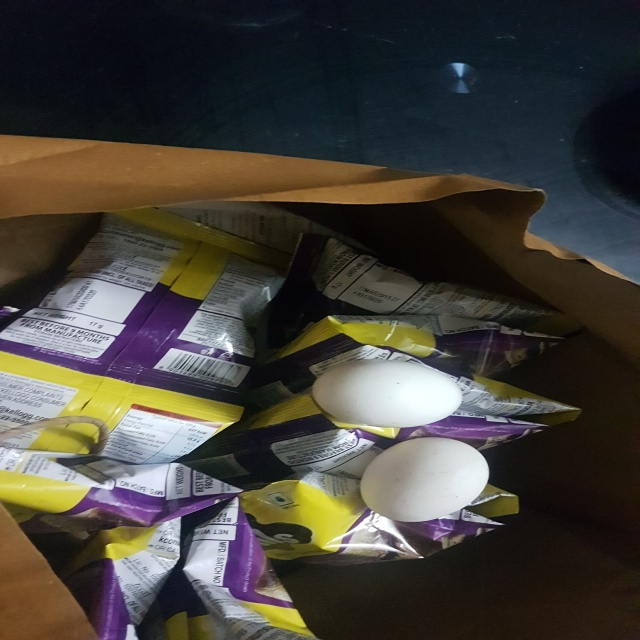eggs: (359, 435, 491, 527), (311, 358, 467, 428)
